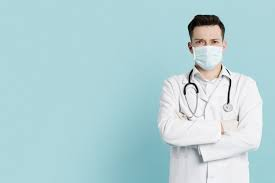masked: (185, 17, 229, 69)
